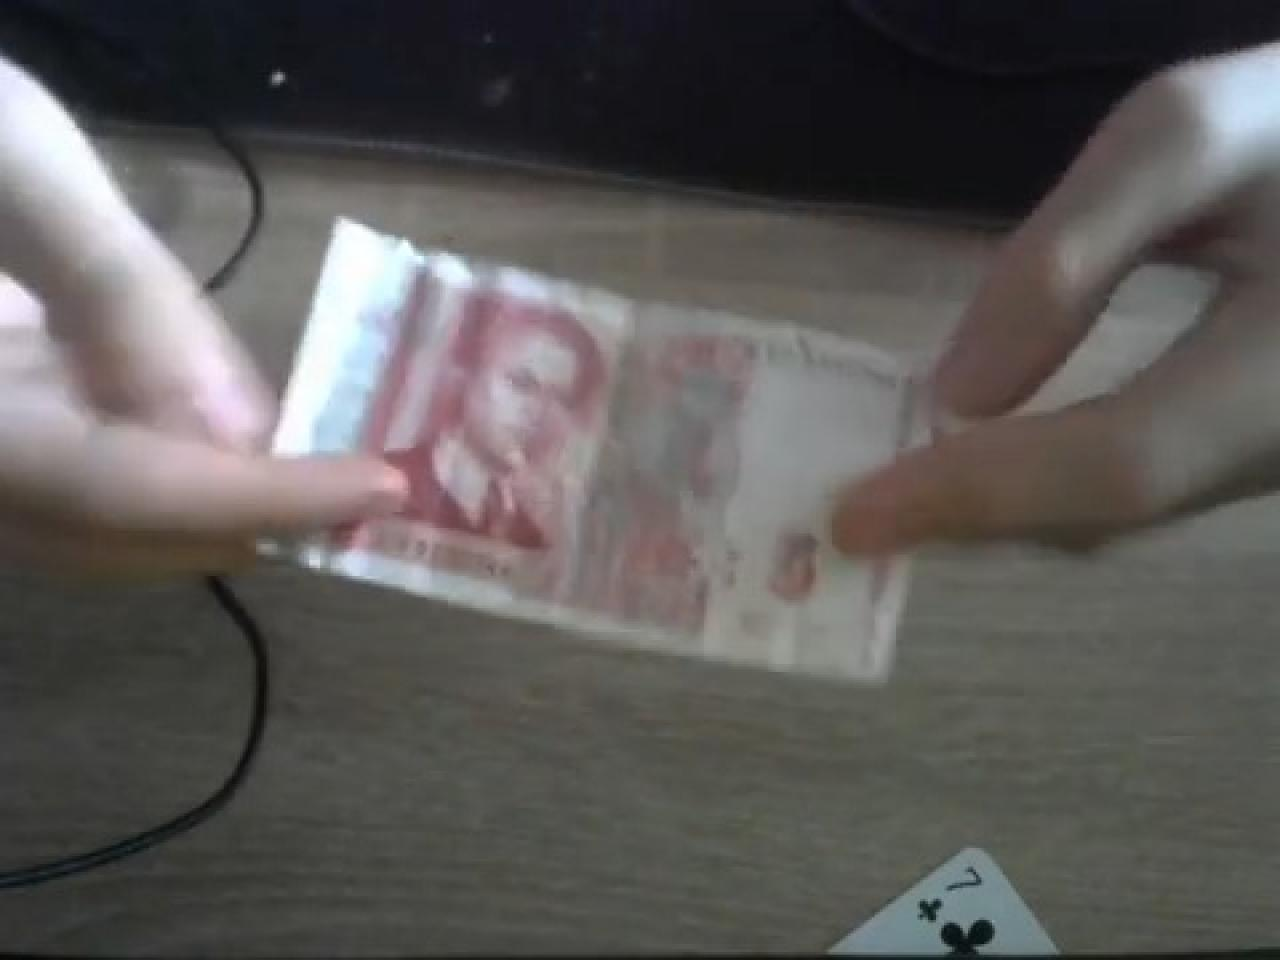5leva: (371, 269, 616, 555)
